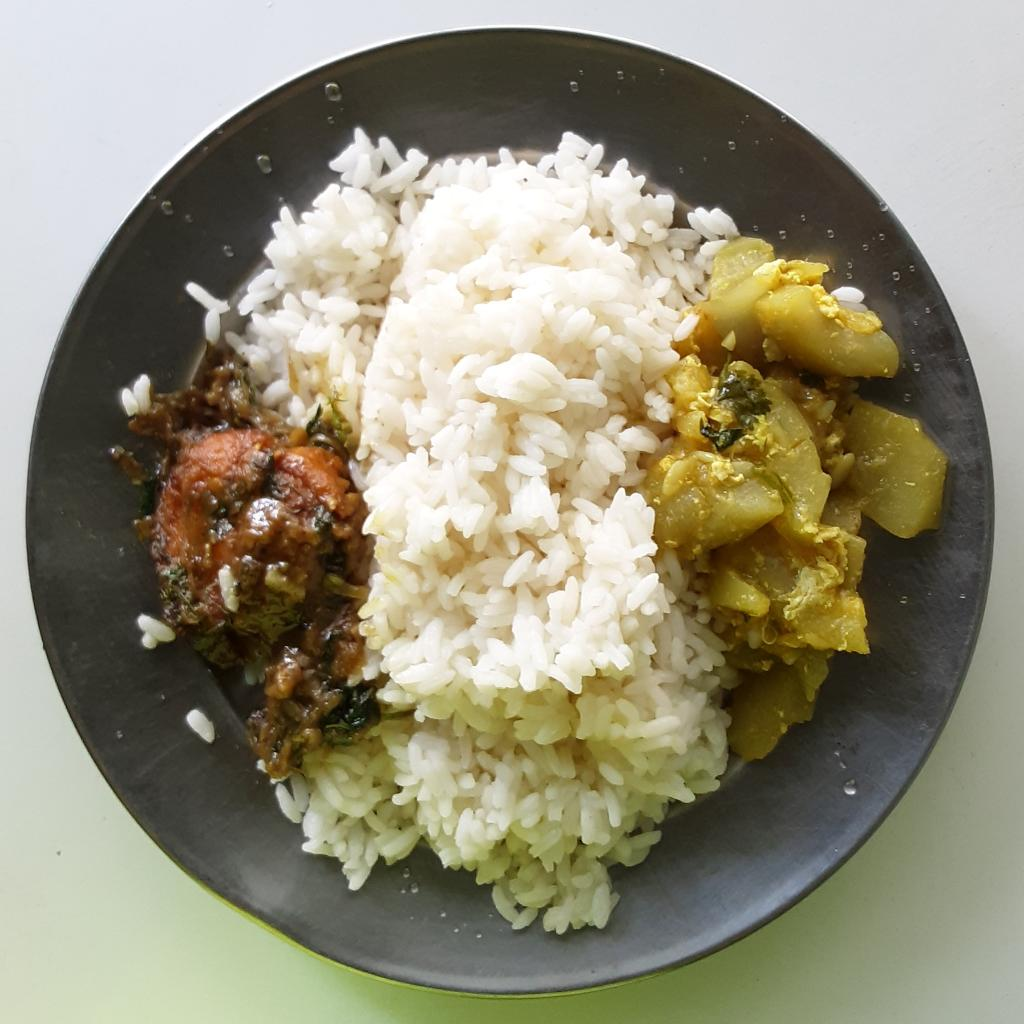fish: (120, 358, 367, 773)
lau: (649, 234, 943, 759)
rice: (185, 120, 739, 937)
